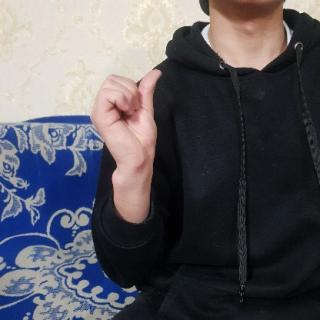WAW: (89, 64, 168, 177)
